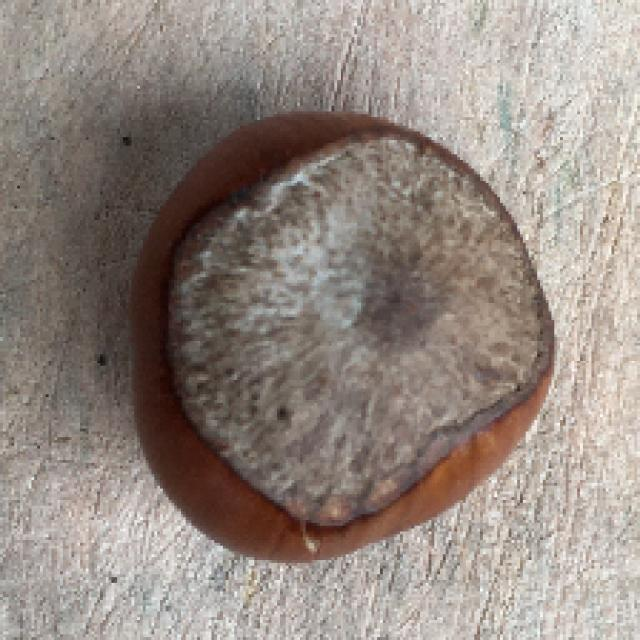QualityHazelnut: (126, 107, 561, 567)
